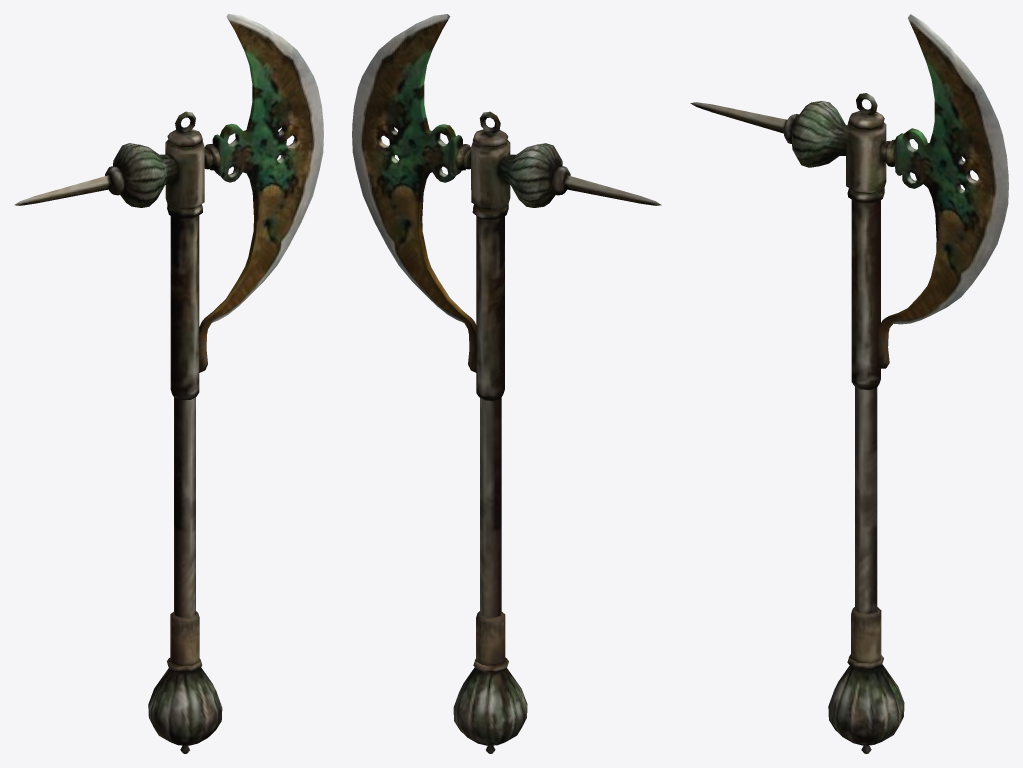
The model's file is weapon-jade-spined-axe.glb.
The picture shows the model from 3 angles, left to right: view 1: azimuth 30°, elevation 25°; view 2: azimuth 150°, elevation 25°; view 3: azimuth 330°, elevation 25°; orthographic projection. The views are drawn at different scales.
Visible parts, largest first — view 1: axeC_MDL_q; view 2: axeC_MDL_q; view 3: axeC_MDL_q.
Boxes of the visible parts, x1=… form: axeC_MDL_q: x1=14, y1=14, x2=323, y2=753; axeC_MDL_q: x1=352, y1=14, x2=661, y2=753; axeC_MDL_q: x1=690, y1=14, x2=1008, y2=753.
Bounding box in the file's own units: 0.6917 × 1.56 × 0.1367.
Materials: 1 (1 with a texture image).
